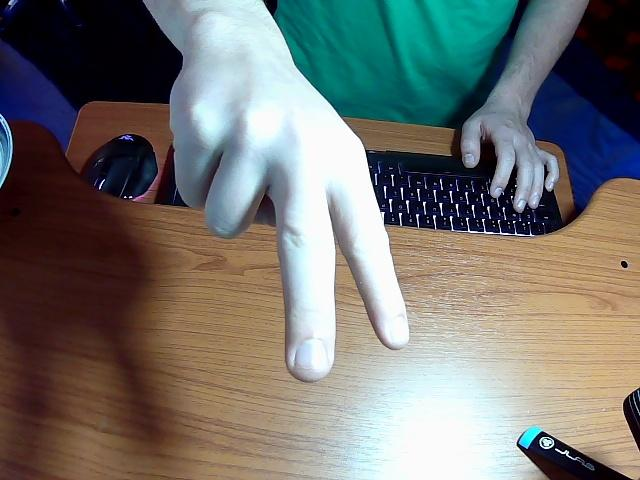scissors: (146, 0, 585, 381)
